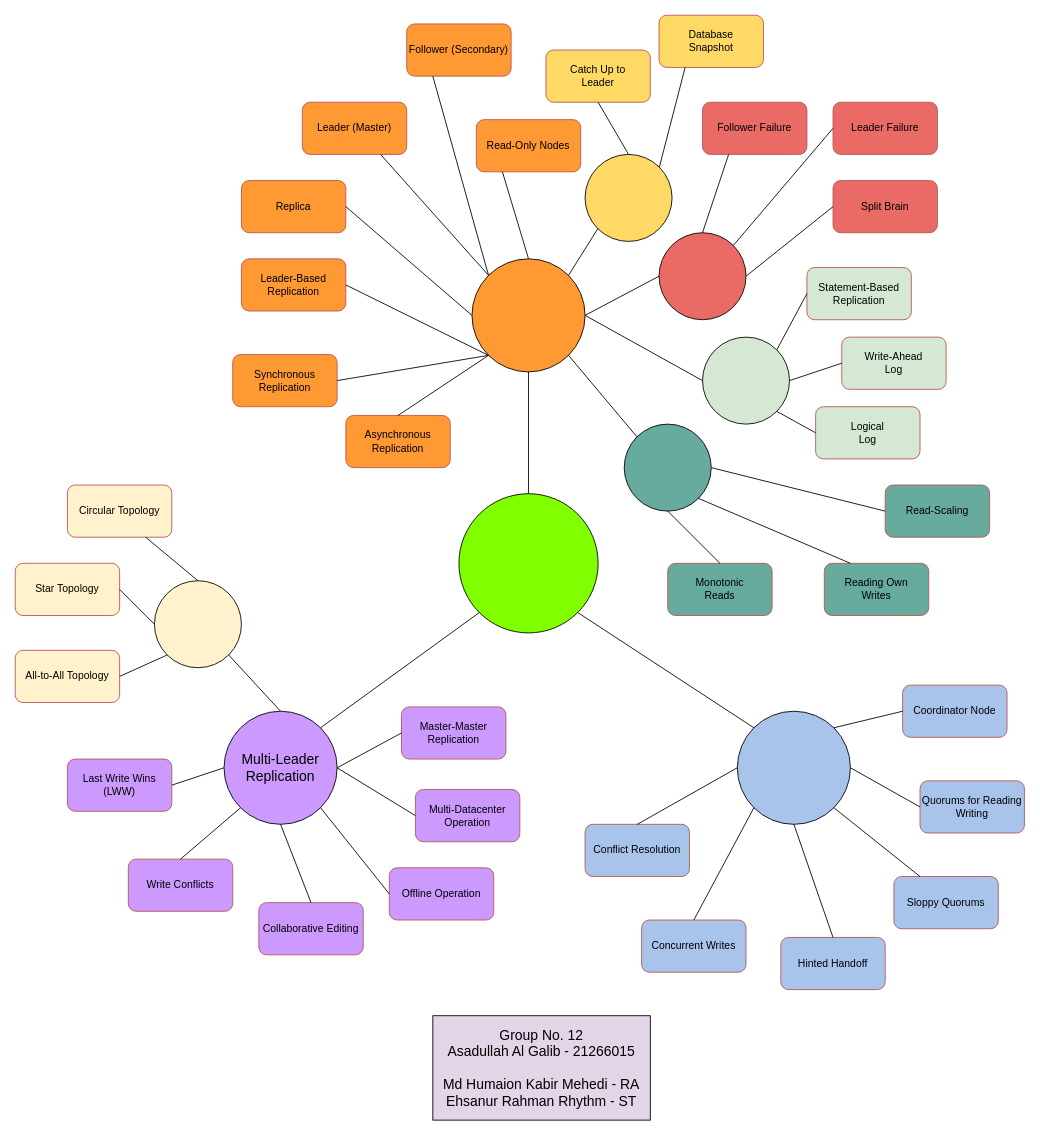
Image size: 1040x1135. Some labels were removed from this diagram. The centre of each missing label's shape, as x and y in pixels:
"Leaderless Replication" belongs at point (793, 767).
"Node Outage" belongs at point (702, 276).
"Replication" belongs at point (528, 563).
"Replication Lag" belongs at point (667, 467).
"Replication Logs" belongs at point (746, 380).
"Replication Topologies" belongs at point (197, 624).
"Set Up New Follower" belongs at point (628, 197).
"Single-Leader Replication" belongs at point (528, 315).
